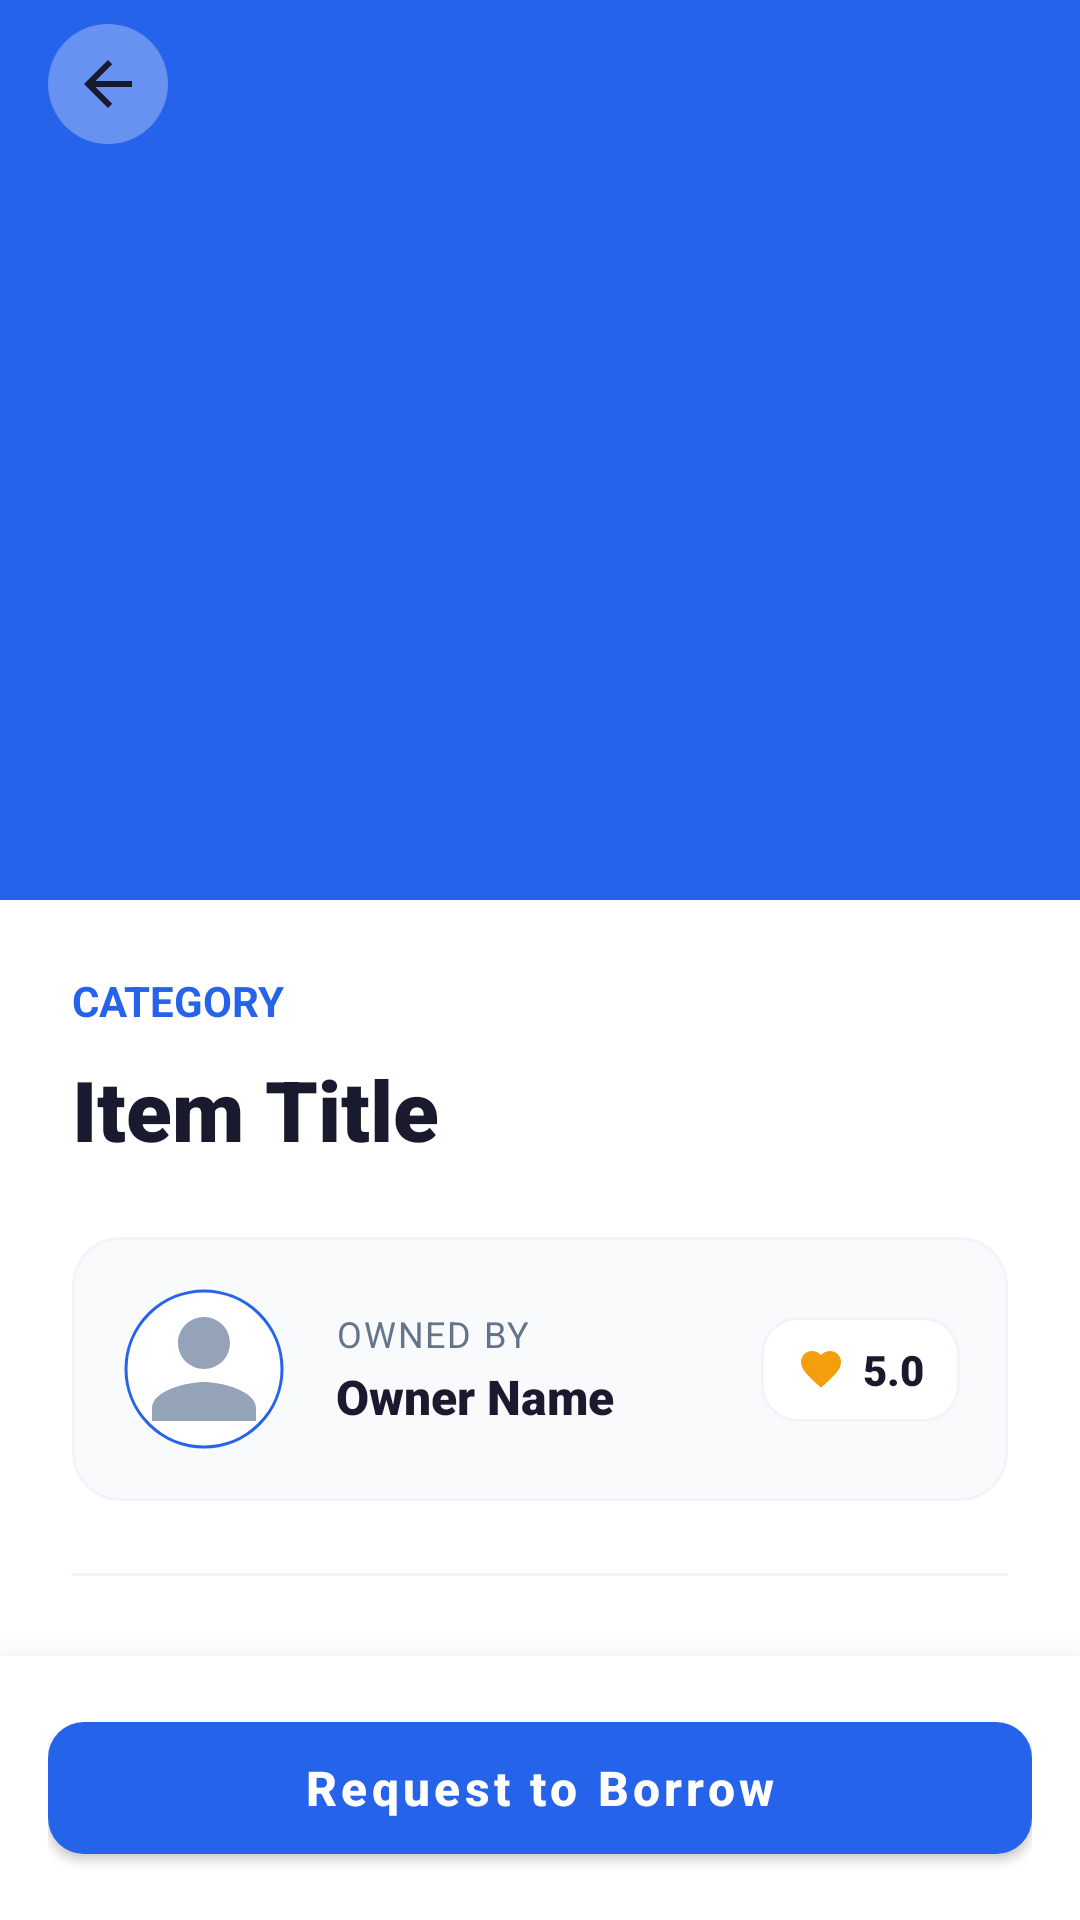

Icon click points for this 1080 x 1920 phone screenshot, format (x=x, y=y):
back: (x=108, y=84)
favorite: (x=821, y=1369)
person: (x=204, y=1369)
